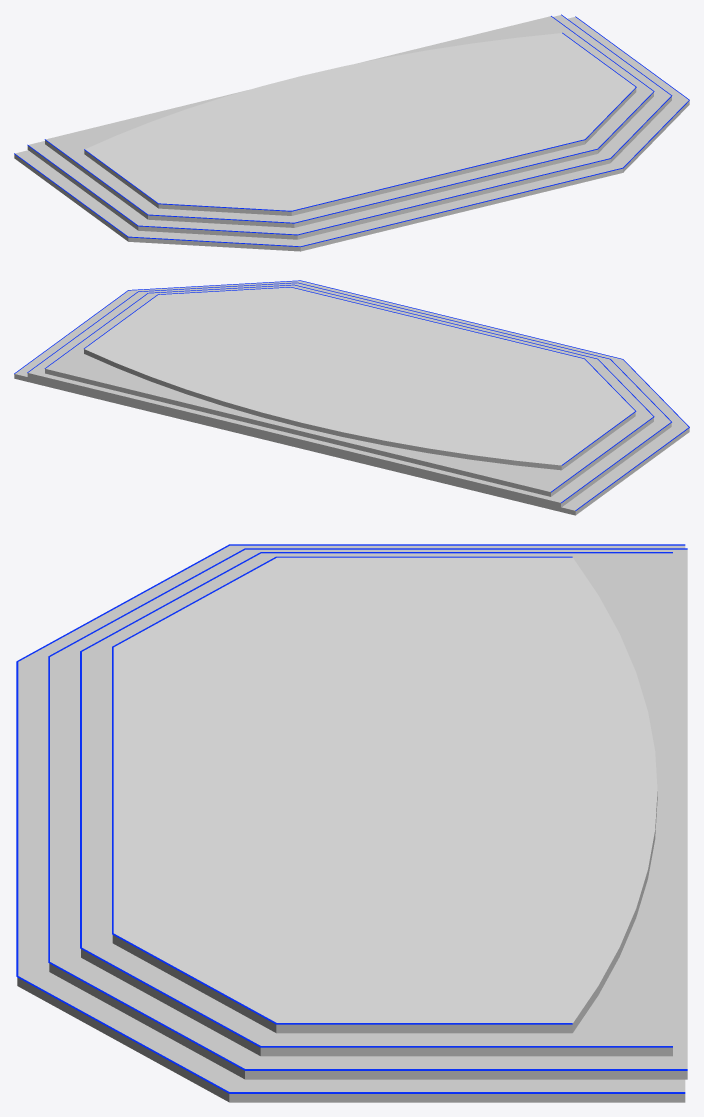
File: steps.fbx
3 views of the same model, one above another, from view 1: azimuth 30°, elevation 25°; view 2: azimuth 150°, elevation 25°; view 3: azimuth 270°, elevation 25° (orthographic). The views are drawn at different scales.
Visible parts, largest first — view 1: Line006, Line005, Line003, Line004, Line016, Line015, Line014, Line013; view 2: Line006, Line005, Line004, Line003, Line016, Line015, Line014, Line013; view 3: Line006, Line005, Line004, Line003, Line016, Line015, Line014, Line013.
Part boxes in pixels (box(x1,y1,x2,y2)): Line006: box(84, 33, 636, 215); Line005: box(45, 16, 653, 227); Line003: box(14, 17, 689, 251); Line004: box(27, 15, 671, 239); Line016: box(14, 16, 689, 246); Line015: box(27, 14, 672, 235); Line014: box(44, 16, 654, 223); Line013: box(84, 32, 636, 211); Line006: box(84, 287, 635, 470); Line005: box(45, 285, 653, 496); Line004: box(27, 283, 671, 507); Line003: box(14, 281, 689, 515); Line016: box(14, 280, 689, 510); Line015: box(27, 282, 671, 503); Line014: box(44, 284, 654, 492); Line013: box(84, 287, 636, 465); Line006: box(112, 557, 657, 1033); Line005: box(81, 553, 672, 1056); Line004: box(49, 549, 687, 1079); Line003: box(17, 545, 685, 1102); Line016: box(16, 544, 685, 1093); Line015: box(48, 548, 687, 1070); Line014: box(80, 552, 672, 1047); Line013: box(112, 556, 572, 1024).
Size of the model in its own units: 734 by 24.5 by 380.
